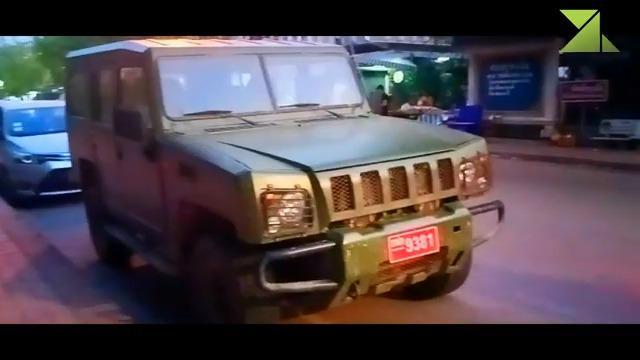MIL_HMMWV: (64, 40, 508, 328), (0, 98, 82, 208)
